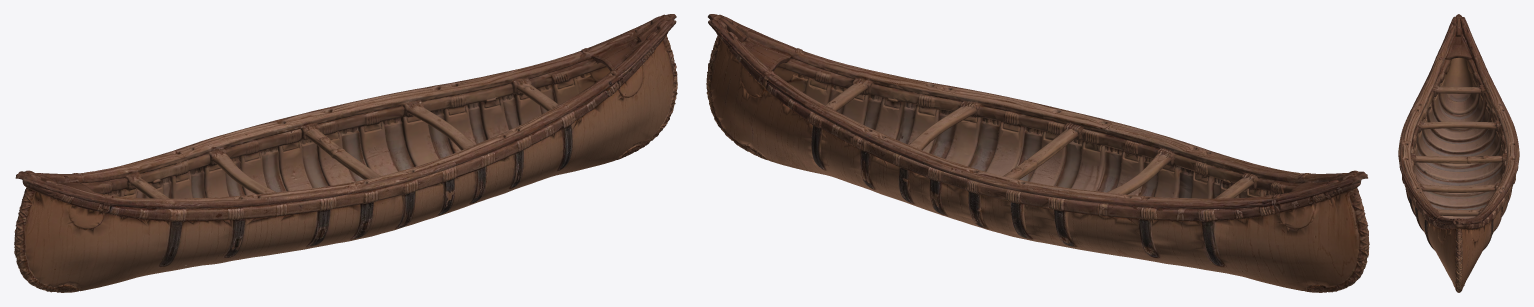
File: Penobscot_birch_bark_canoe.min.glb
The picture shows the model from 3 angles, left to right: view 1: azimuth 30°, elevation 25°; view 2: azimuth 150°, elevation 25°; view 3: azimuth 270°, elevation 25°; orthographic projection. The views are drawn at different scales.
Parts seen in each view (by area): view 1: tripo_node_b4dff78e-8019-47ff-8355-2cca26b63321; view 2: tripo_node_b4dff78e-8019-47ff-8355-2cca26b63321; view 3: tripo_node_b4dff78e-8019-47ff-8355-2cca26b63321.
Part boxes in pixels (x1,y1,x2,y2): tripo_node_b4dff78e-8019-47ff-8355-2cca26b63321: (14,14,677,292); tripo_node_b4dff78e-8019-47ff-8355-2cca26b63321: (706,14,1369,292); tripo_node_b4dff78e-8019-47ff-8355-2cca26b63321: (1398,14,1519,292).
Size of the model in its own units: 0.9798 by 0.1905 by 0.2398.
Materials: 1 (1 with a texture image).
